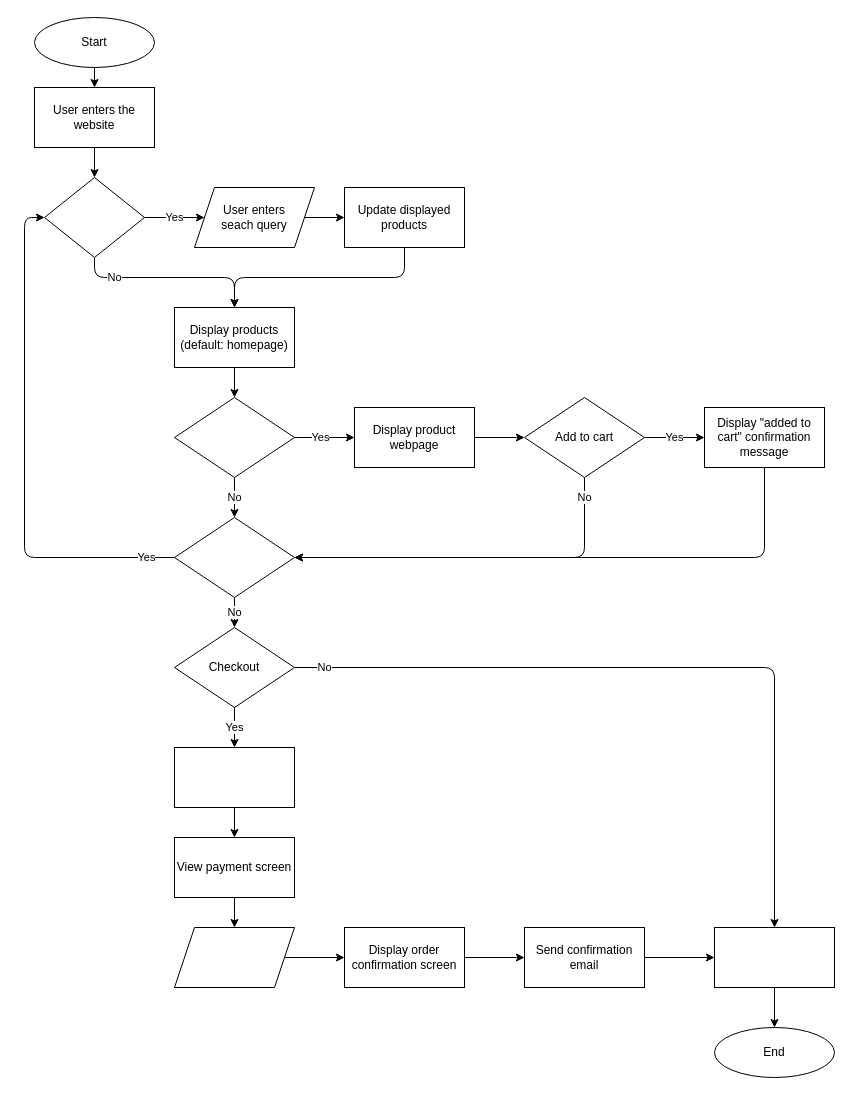
Image size: 852x1095. Some labels were removed from this diagram. The shapes that lost their labels are listed below. From the top down, each one's box as (x1, y1, x2, y2) in pixels, then its label:
(44, 176, 144, 258): Option to search
(174, 396, 294, 478): Clicks on a specific product
(174, 516, 294, 598): Continue shopping
(174, 746, 294, 808): View cart
(174, 926, 294, 988): Enter payment information
(714, 926, 834, 988): User leaves the website
